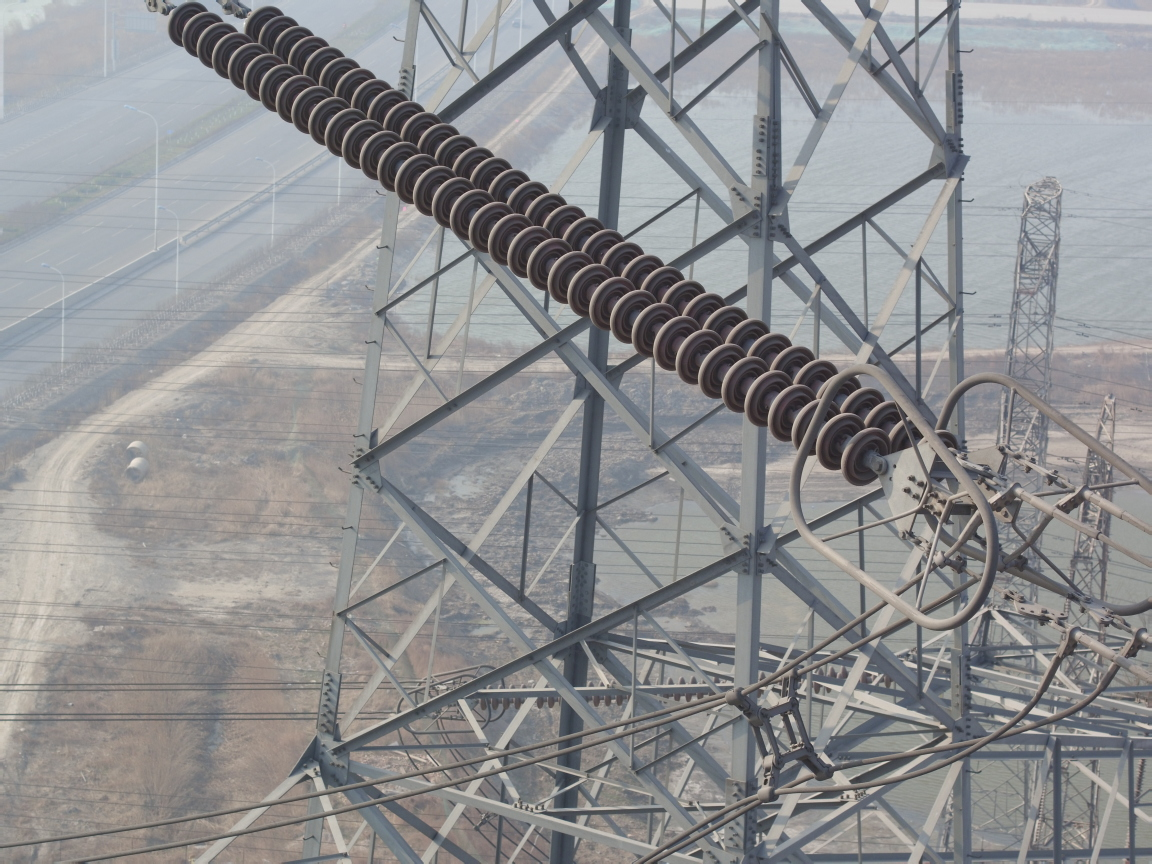insulator: (138, 1, 966, 488)
